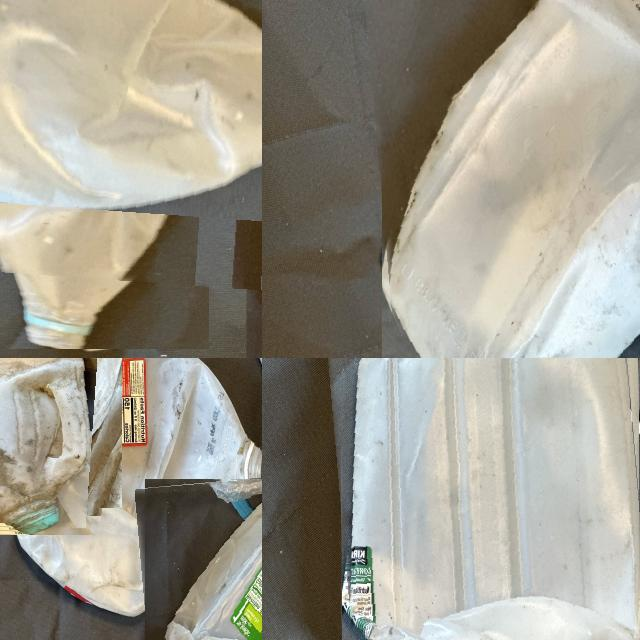milk-jug: (372, 0, 640, 358), (332, 358, 640, 640), (0, 0, 262, 284), (6, 358, 258, 612), (140, 473, 262, 640), (0, 358, 113, 525)
